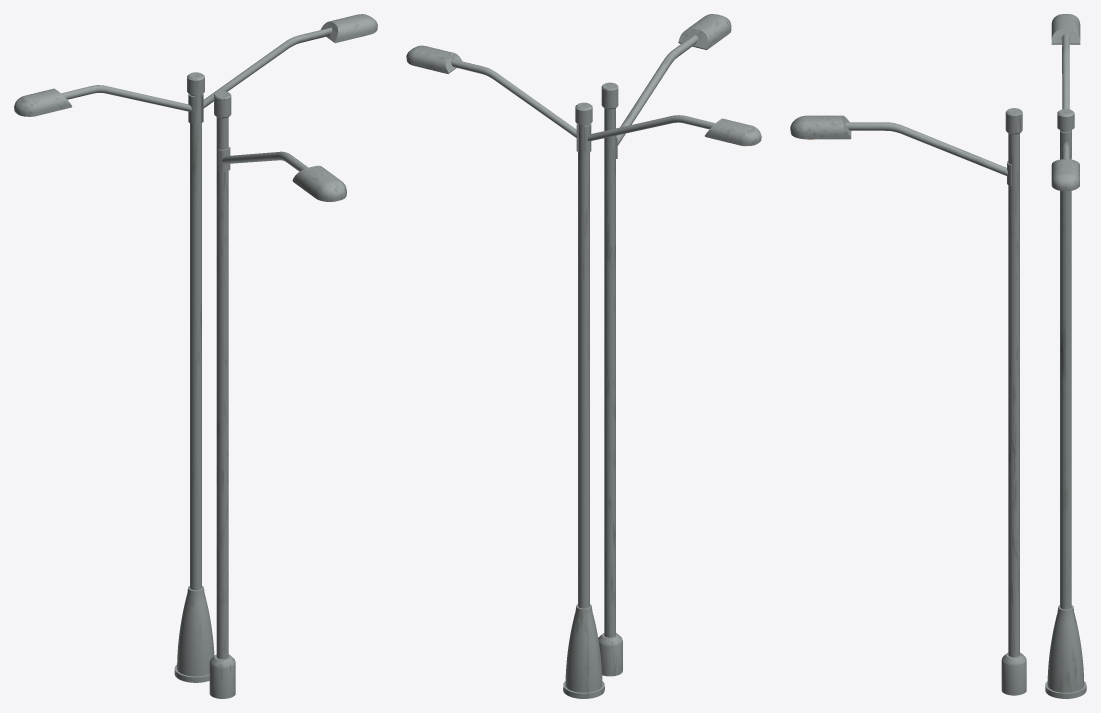
File: street_light_pack.glb
3 renders of one model, left to right at view 1: azimuth 30°, elevation 25°; view 2: azimuth 150°, elevation 25°; view 3: azimuth 270°, elevation 25°, orthographic. The views are drawn at different scales.
Visible parts, largest first — view 1: Street Light 2_1, Street Light 1_0; view 2: Street Light 2_1, Street Light 1_0; view 3: Street Light 2_1, Street Light 1_0.
Boxes of the visible parts, x1,y1,x2,y2 form: Street Light 2_1: [14, 14, 377, 682]; Street Light 1_0: [209, 91, 346, 698]; Street Light 2_1: [406, 45, 761, 698]; Street Light 1_0: [598, 14, 731, 676]; Street Light 2_1: [1045, 14, 1086, 698]; Street Light 1_0: [790, 108, 1026, 695].
Size of the model in its own units: 3.46 by 5.68 by 2.56.
Materials: 4 (4 with a texture image).
